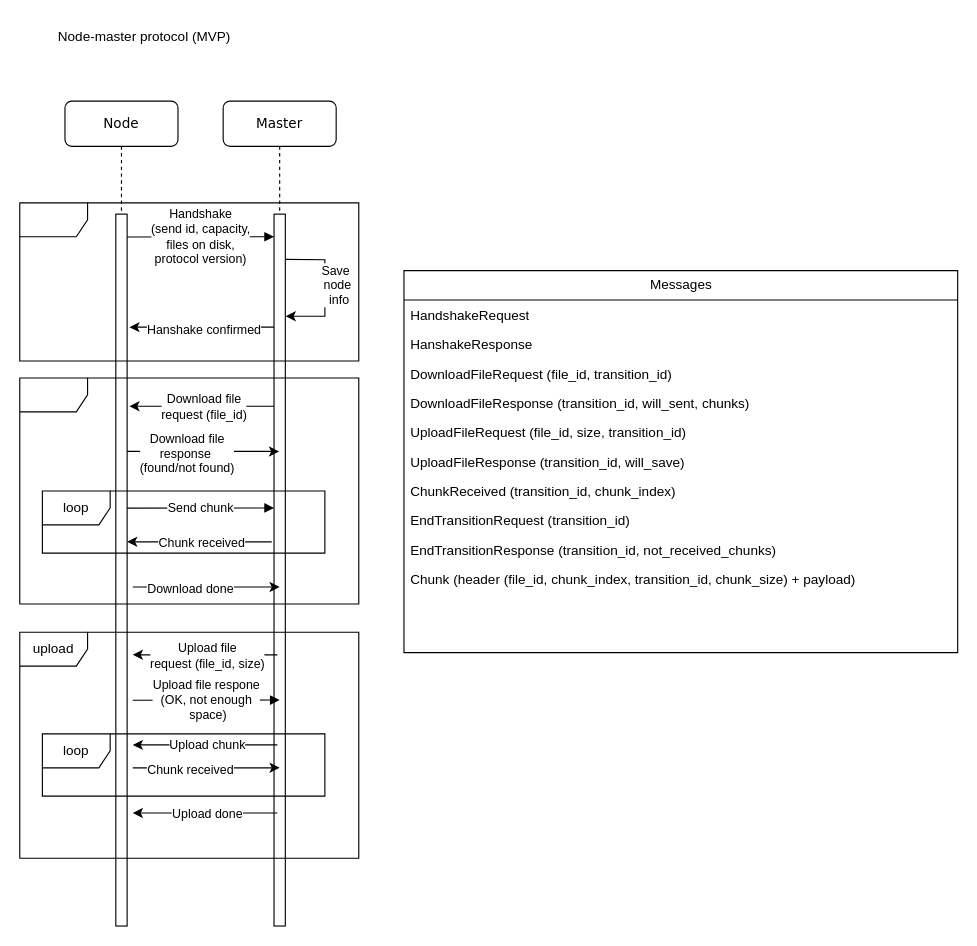
This 977x946 diagram has some shape labels left out. The shapes that lost their labels are listed below. From the top down, each one's centre as x and y in pixels, then its label:
pixel 189 281: handshake
pixel 189 490: download
